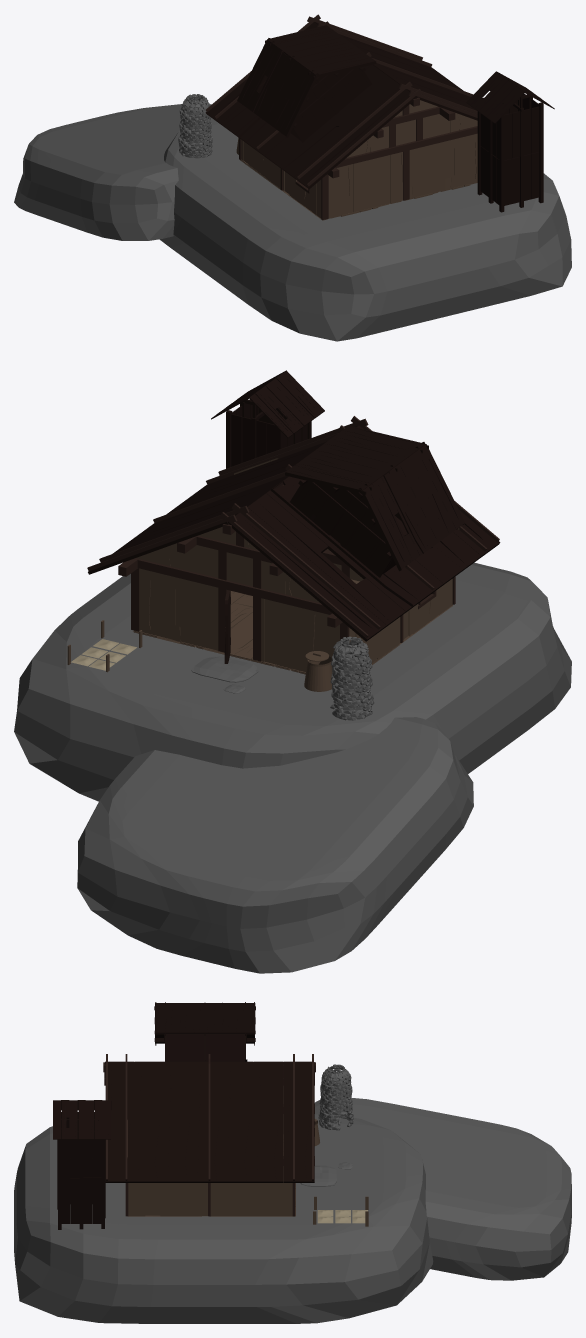
The model's file is house_upgrade003.fbx.
3 renders of one model, top to bottom at view 1: azimuth 30°, elevation 25°; view 2: azimuth 150°, elevation 25°; view 3: azimuth 270°, elevation 25°, orthographic. The views are drawn at different scales.
Parts seen in each view (by area): view 1: terrain, Upgrade003, Upgrade001, Structure, Walls001, Roof001, Walls002, Roof002, Upgrade002; view 2: terrain, Upgrade003, Structure, Roof001, Roof002, Walls001, Walls002, Upgrade001, Upgrade002, OutsideRock, Floor002, Garden (+2 smaller); view 3: terrain, Roof002, Roof001, Upgrade001, Upgrade003, Walls002, Walls001, Structure, Upgrade002, Garden, OutsideRock.
Boxes of the visible parts, x1,y1,x2,y2 form: terrain: (14,104,571,341); Upgrade003: (237,25,376,142); Upgrade001: (466,71,554,212); Structure: (206,14,477,219); Walls001: (248,100,471,218); Roof001: (205,22,476,189); Walls002: (241,102,477,215); Roof002: (220,22,477,178); Upgrade002: (178,94,212,158); terrain: (14,562,571,973); Upgrade003: (285,425,464,577); Structure: (87,416,499,661); Roof001: (112,425,500,641); Roof002: (88,425,481,626); Walls001: (139,458,452,668); Walls002: (136,460,459,671); Upgrade001: (211,370,324,468); Upgrade002: (330,636,374,720); OutsideRock: (191,656,259,693); Floor002: (133,581,399,672); Garden: (71,639,136,670); terrain: (14,1098,571,1323); Roof002: (105,1061,314,1182); Roof001: (105,1059,311,1182); Upgrade001: (53,1100,111,1229); Upgrade003: (154,1002,255,1061); Walls002: (127,1086,292,1215); Walls001: (127,1120,278,1215); Structure: (103,1054,315,1216); Upgrade002: (318,1064,353,1130); Garden: (317,1210,367,1223); OutsideRock: (300,1162,352,1186).
Size of the model in its own units: 1641 by 1085 by 2209.
